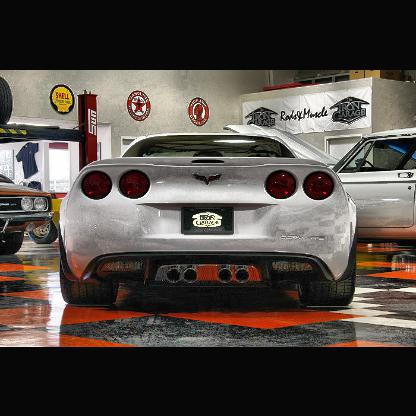Chevrolet Corvette Ron Fellows Edition Z06 2007: (57, 131, 361, 309)
